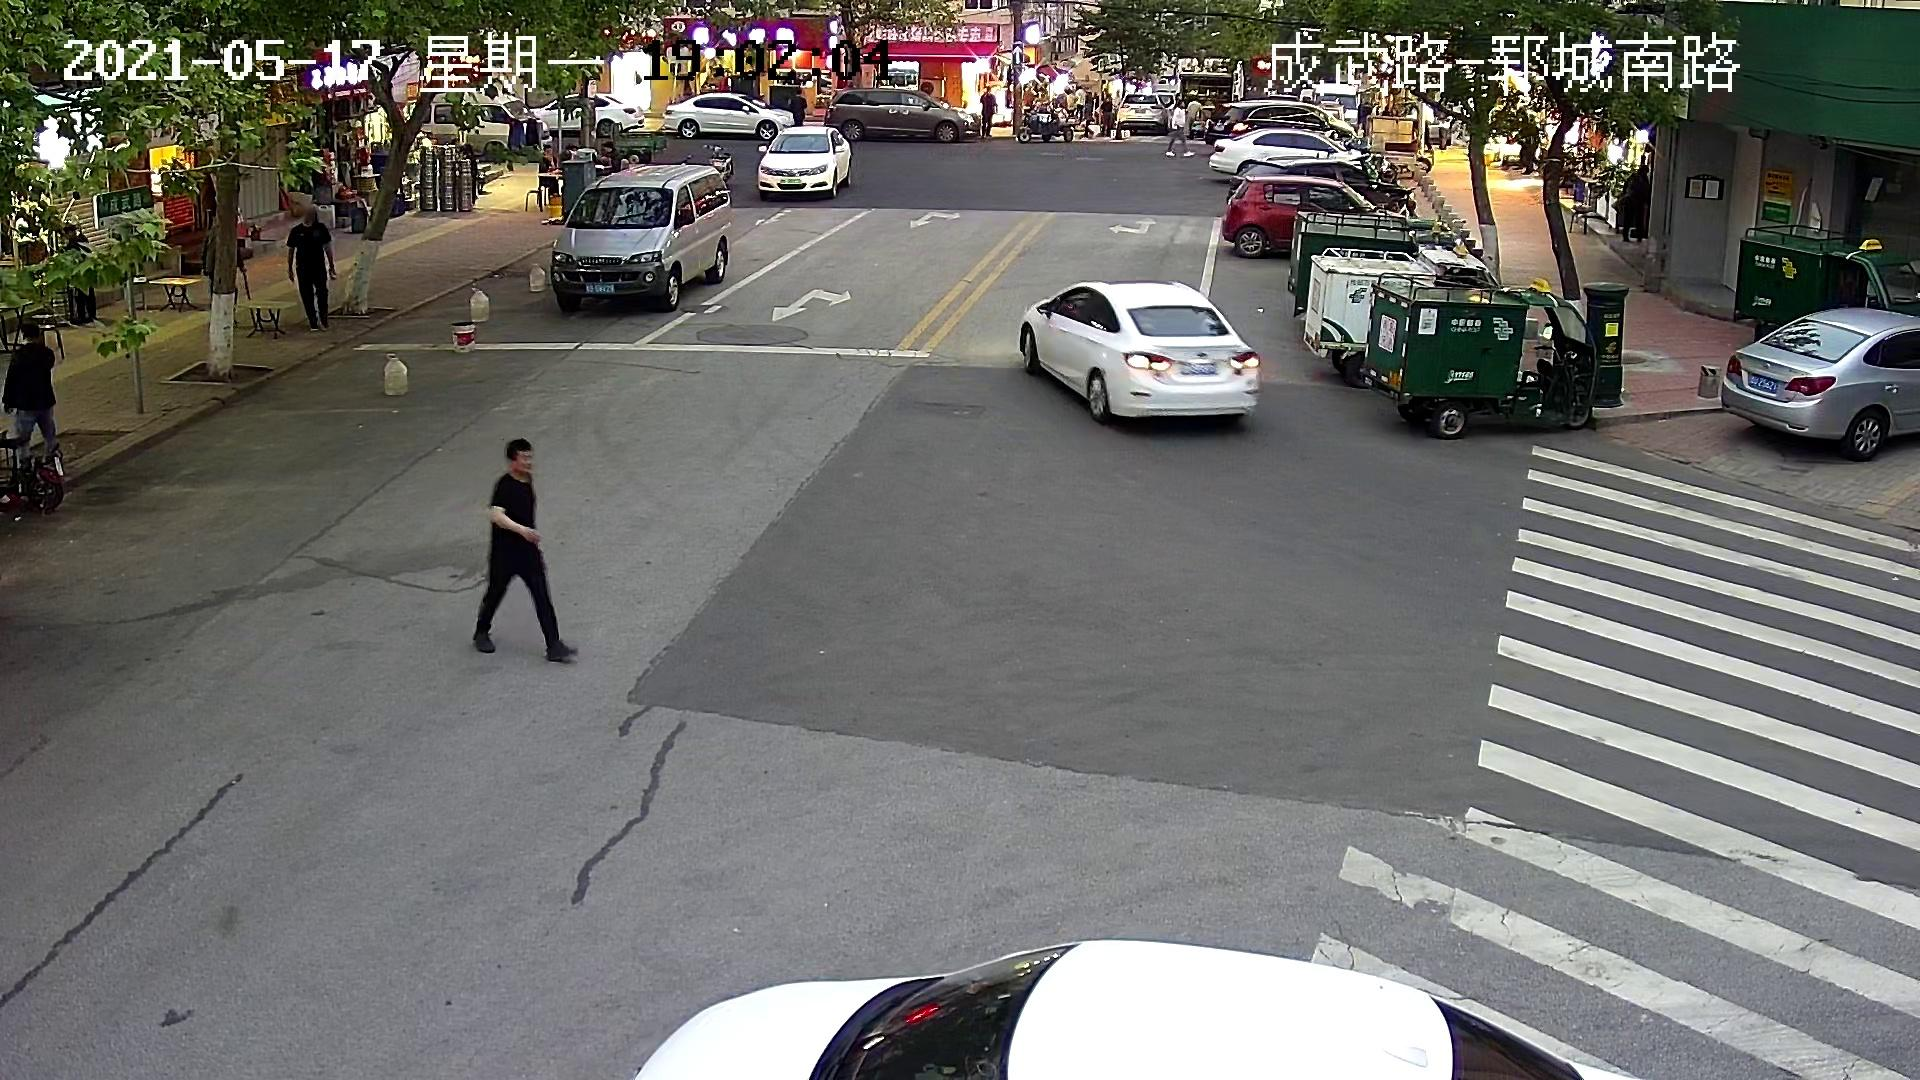chair: (32, 322, 65, 363)
table: (236, 301, 298, 340), (146, 276, 207, 313), (1, 298, 34, 363)
table_chair: (1, 297, 66, 364)
